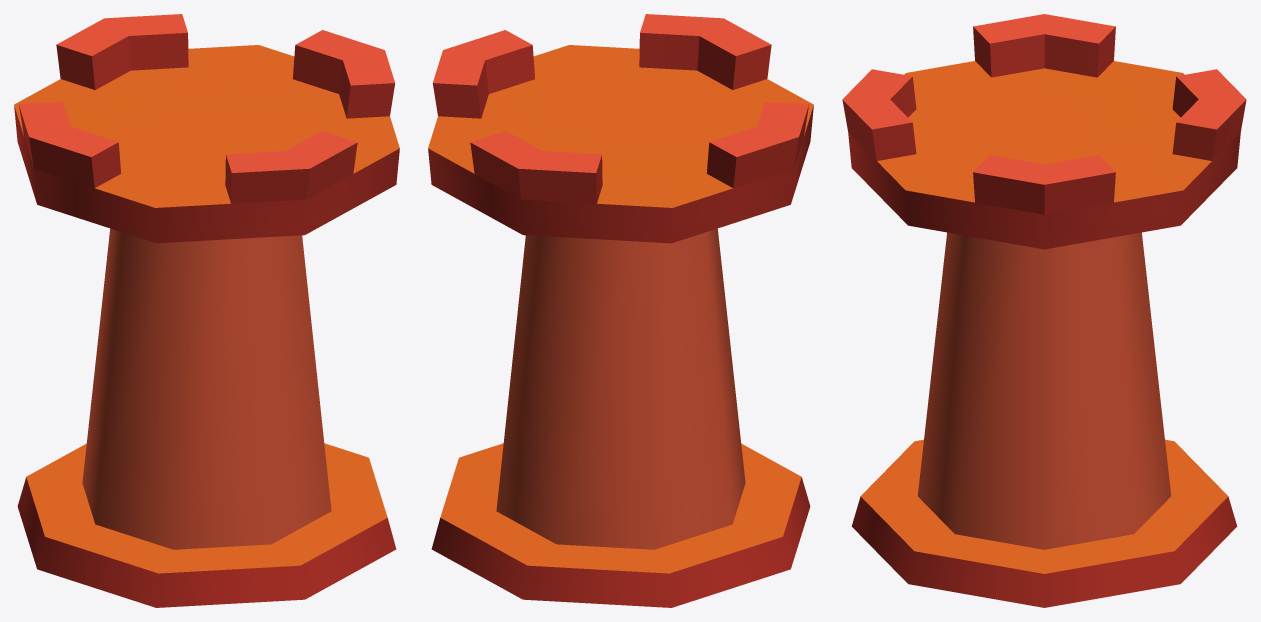
The model's file is CM_GuardHut_model.fbx.
3 renders of one model, left to right at view 1: azimuth 30°, elevation 25°; view 2: azimuth 150°, elevation 25°; view 3: azimuth 270°, elevation 25°, orthographic.
Visible parts, largest first — view 1: CM_GuardHut_model; view 2: CM_GuardHut_model; view 3: CM_GuardHut_model.
Part boxes in pixels (left/top/right/bottom): CM_GuardHut_model: left=14, top=14, right=399, bottom=607; CM_GuardHut_model: left=428, top=14, right=813, bottom=607; CM_GuardHut_model: left=842, top=14, right=1246, bottom=607.
Size of the model in its own units: 14.59 by 17.02 by 14.59.
